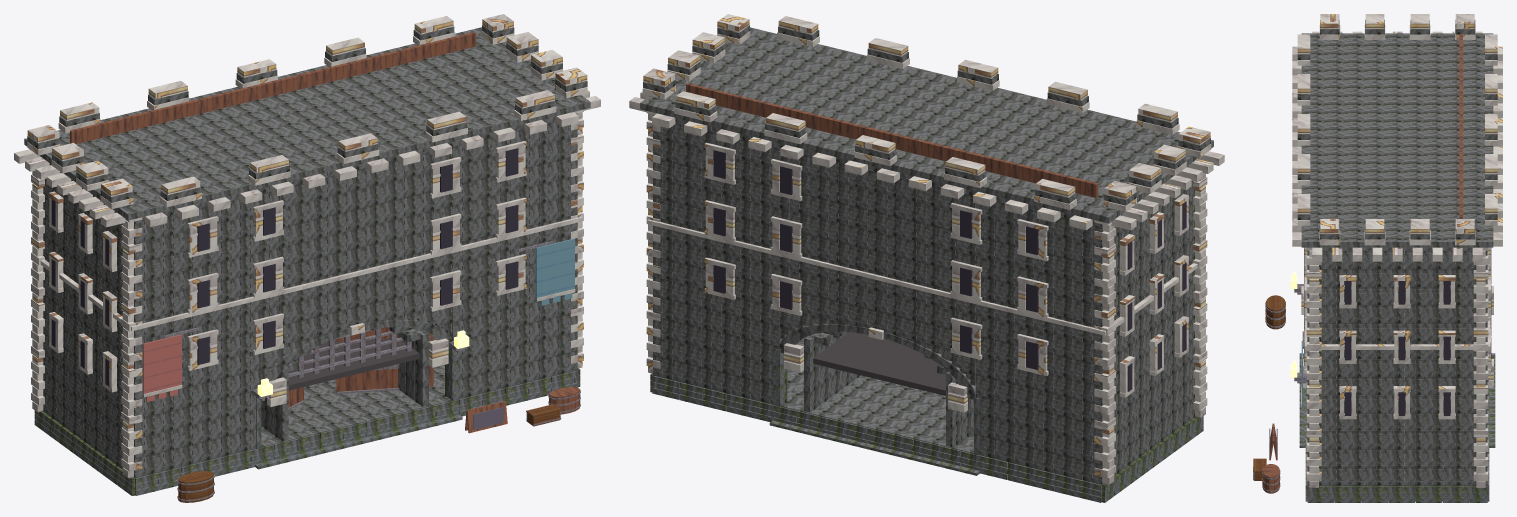
File: karta.glb
3 views of the same model, side by side, from view 1: azimuth 30°, elevation 25°; view 2: azimuth 150°, elevation 25°; view 3: azimuth 270°, elevation 25° (orthographic). The views are drawn at different scales.
Parts seen in each view (by area): view 1: karta_mur_grå, karta_puts, karta_mörkt_virke, karta_fot_sten, karta_sockel, karta_glas_mörkt, karta_järn, karta_sot, karta_tyg_blått, karta_sten, karta_tyg_rött, karta_ljust_virke; view 2: karta_mur_grå, karta_puts, karta_fot_sten, karta_sockel, karta_mörkt_virke, karta_glas_mörkt, karta_sot, karta_sten; view 3: karta_mur_grå, karta_puts, karta_fot_sten, karta_glas_mörkt, karta_mörkt_virke, karta_sten, karta_ljust_virke, karta_järn, karta_sockel.
Boxes of the visible parts, <box> form: karta_mur_grå: <box>24,25,590,477</box>; karta_puts: <box>14,14,600,478</box>; karta_mörkt_virke: <box>70,32,580,433</box>; karta_fot_sten: <box>34,368,580,495</box>; karta_sockel: <box>43,337,577,495</box>; karta_glas_mörkt: <box>51,148,517,386</box>; karta_järn: <box>163,241,580,501</box>; karta_sot: <box>288,337,419,390</box>; karta_tyg_blått: <box>535,238,574,305</box>; karta_sten: <box>255,348,462,469</box>; karta_tyg_rött: <box>143,334,181,401</box>; karta_ljust_virke: <box>178,404,561,502</box>; karta_mur_grå: <box>640,25,1213,484</box>; karta_puts: <box>629,14,1224,484</box>; karta_fot_sten: <box>650,373,1203,502</box>; karta_sockel: <box>653,338,1194,501</box>; karta_mörkt_virke: <box>686,83,1098,197</box>; karta_glas_mörkt: <box>713,150,1186,391</box>; karta_sot: <box>813,332,945,395</box>; karta_sten: <box>769,349,980,475</box>; karta_mur_grå: <box>1297,19,1497,485</box>; karta_puts: <box>1292,14,1502,487</box>; karta_fot_sten: <box>1305,388,1489,502</box>; karta_glas_mörkt: <box>1304,248,1491,415</box>; karta_mörkt_virke: <box>1262,34,1462,493</box>; karta_sten: <box>1299,353,1495,447</box>; karta_ljust_virke: <box>1253,295,1285,480</box>; karta_järn: <box>1253,284,1307,492</box>; karta_sockel: <box>1307,481,1487,501</box>.
Size of the model in its own units: 19.9 by 11.66 by 9.41.
13 materials, 9 textured.
